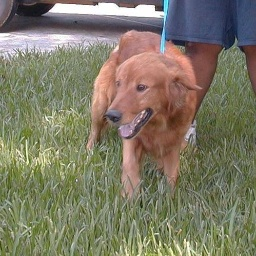dog: (73, 29, 196, 203)
